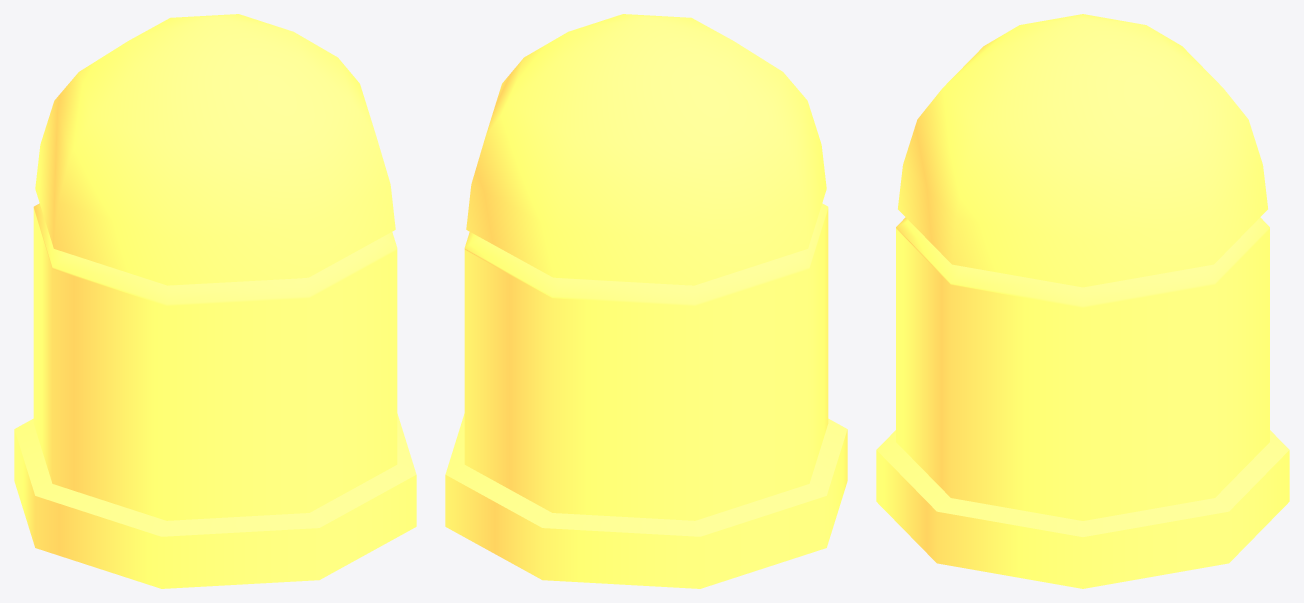
File: Shell.fbx
3 renders of one model, left to right at view 1: azimuth 30°, elevation 25°; view 2: azimuth 150°, elevation 25°; view 3: azimuth 270°, elevation 25°, orthographic.
Parts seen in each view (by area): view 1: Shell; view 2: Shell; view 3: Shell.
Part boxes in pixels (box(x1,y1,x2,y2)): Shell: box(14, 14, 416, 588); Shell: box(445, 14, 847, 588); Shell: box(876, 14, 1289, 588).
Size of the model in its own units: 5094 by 6565 by 5094.
